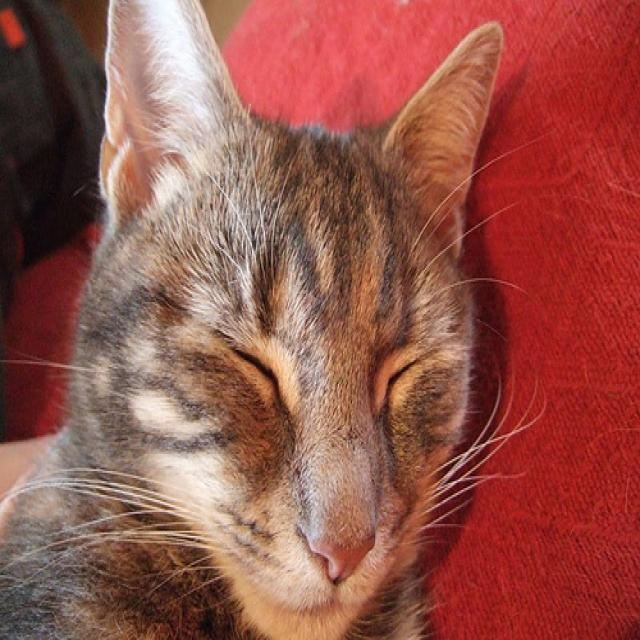cat: (1, 1, 505, 639)
